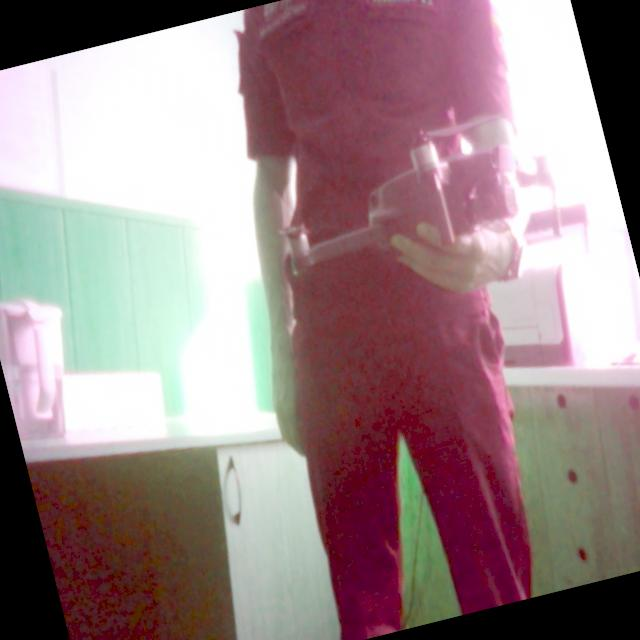drone: (243, 102, 586, 324)
